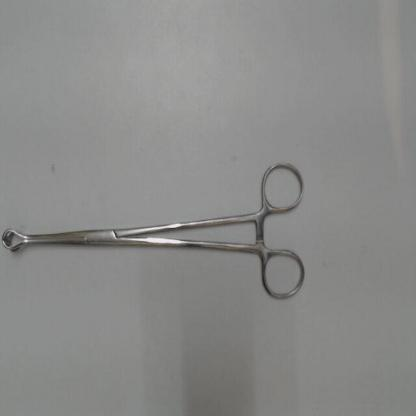8 Babcock Tissue Forceps: (3, 152, 306, 307)
